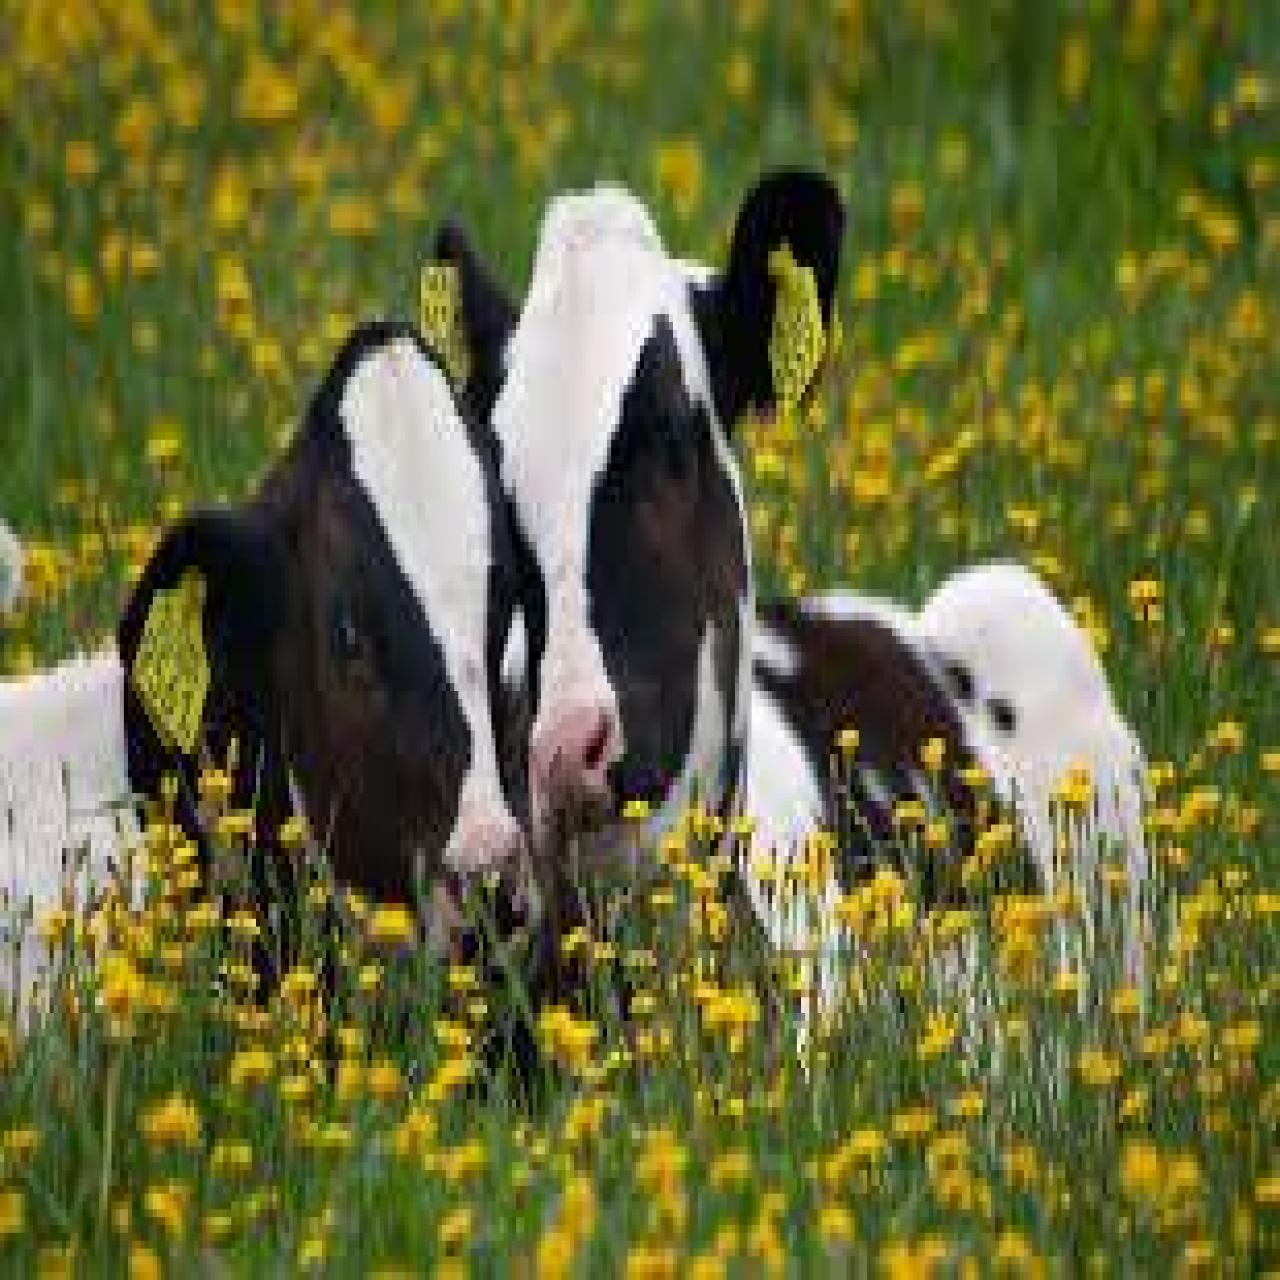cow: (423, 161, 1150, 1009), (0, 321, 549, 1044)
